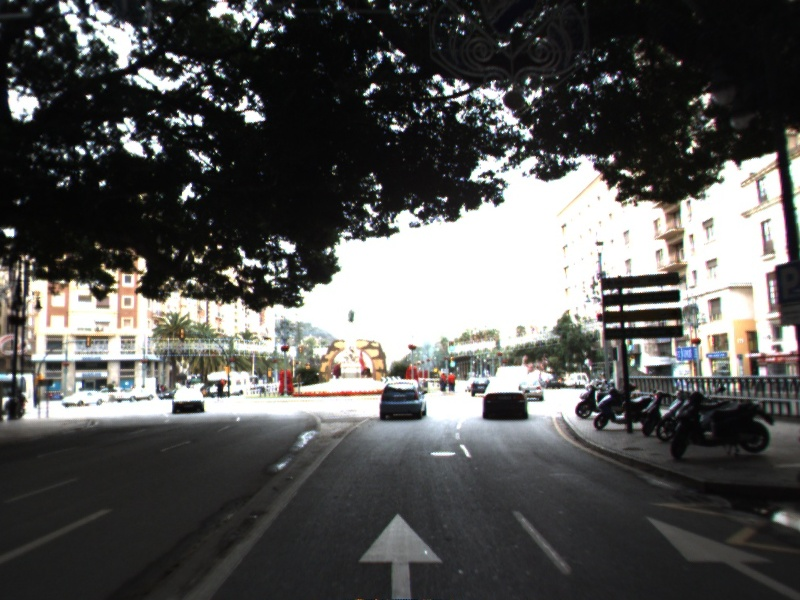STRAIGHT: (642, 511, 799, 600), (354, 509, 447, 599)
